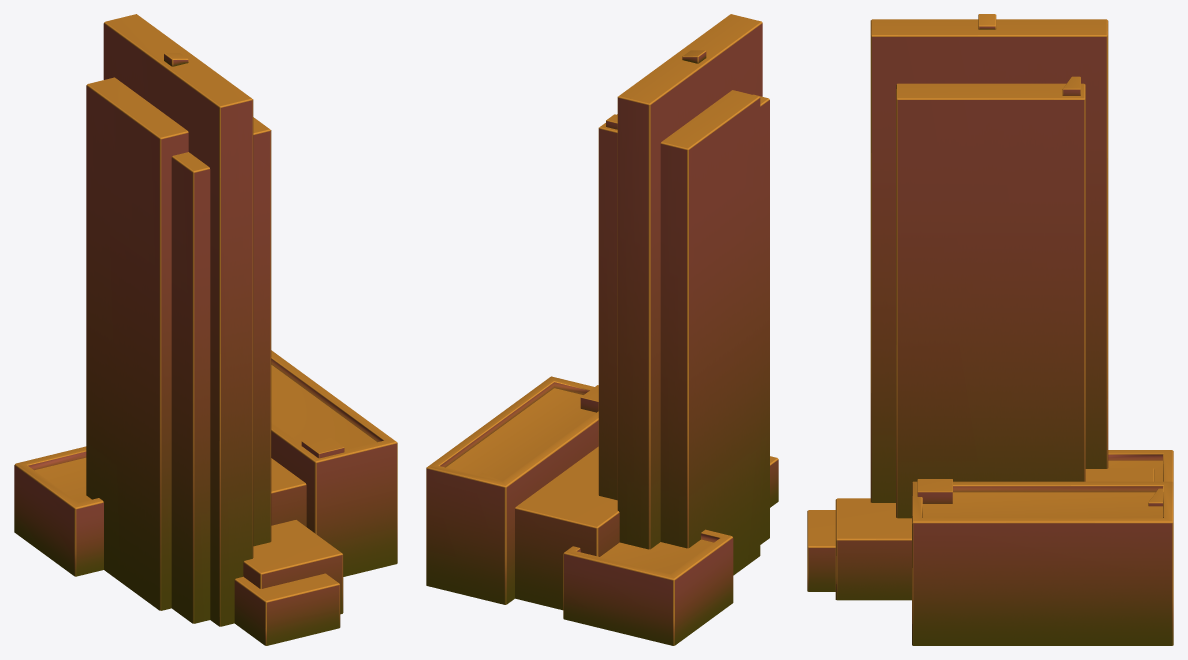
The model's file is prop_BuildingLarge01.fbx.
3 renders of one model, left to right at view 1: azimuth 30°, elevation 25°; view 2: azimuth 150°, elevation 25°; view 3: azimuth 270°, elevation 25°, orthographic. The views are drawn at different scales.
Parts seen in each view (by area): view 1: prop_BuildingLarge01; view 2: prop_BuildingLarge01; view 3: prop_BuildingLarge01.
Boxes of the visible parts, x1,y1,x2,y2 form: prop_BuildingLarge01: (14, 14, 397, 645); prop_BuildingLarge01: (426, 14, 778, 645); prop_BuildingLarge01: (807, 14, 1173, 645).
Size of the model in its own units: 2019 by 3978 by 2463.
